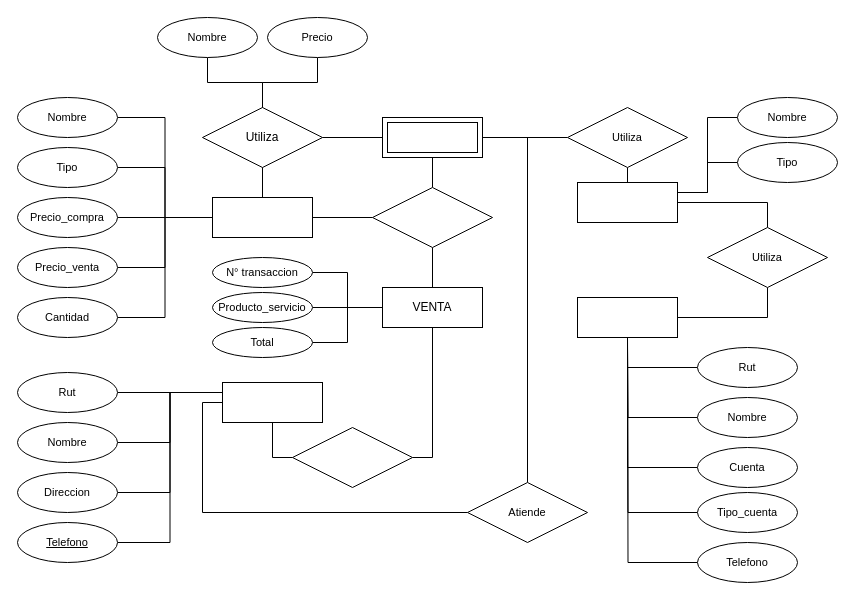
The diagram is 855 pixels wide and 600 high, and some of its shapes have lost their labels. The centre of each missing label's shape, as x and y in pixels:
"CLIENTE" belongs at (272,402).
"Conforma" belongs at (432,217).
"Paga" belongs at (352,457).
"PELUQUERA" belongs at (627,317).
"PRODUCTO" belongs at (262,217).
"SERVICIO" belongs at (432,137).
"UTILES" belongs at (627,202).
